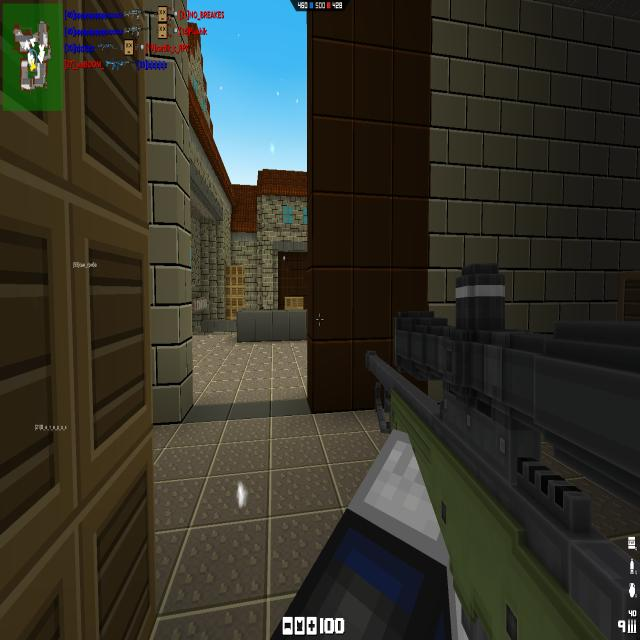player: (258, 304, 264, 310)
